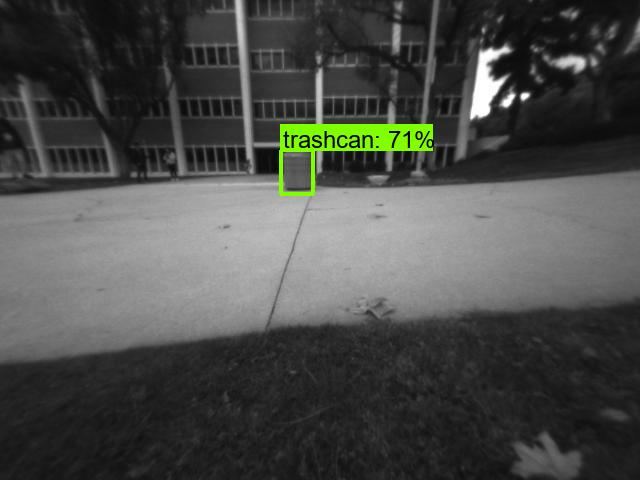trashcan: (286, 151, 311, 191)
